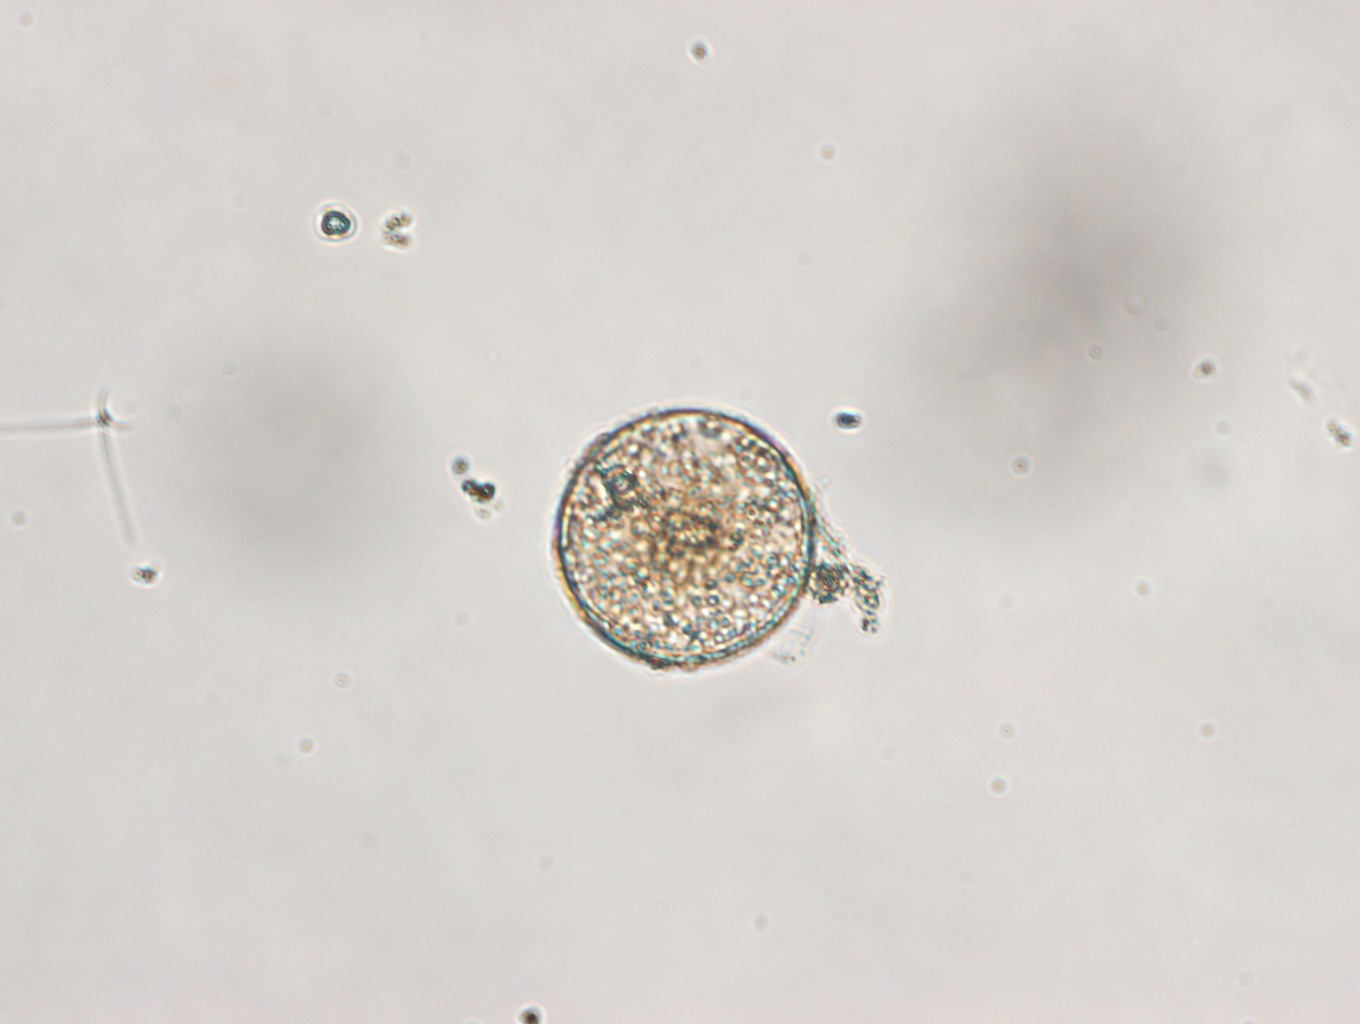coscinodiscus: (553, 406, 812, 665)
